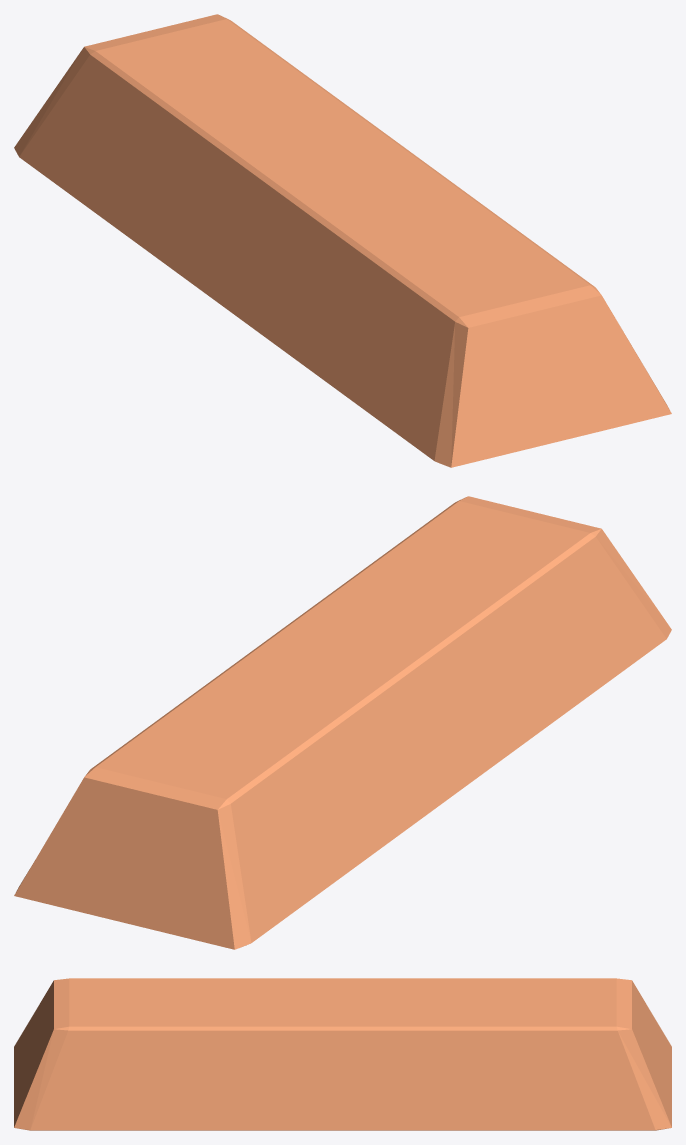
Rendered from CopperIngot.fbx.
The picture shows the model from 3 angles, top to bottom: view 1: azimuth 30°, elevation 25°; view 2: azimuth 150°, elevation 25°; view 3: azimuth 270°, elevation 25°; orthographic projection. The views are drawn at different scales.
Visible parts, largest first — view 1: Ingot; view 2: Ingot; view 3: Ingot.
Part boxes in pixels (x1,y1,x2,y2): Ingot: (14, 14, 671, 467); Ingot: (14, 496, 671, 949); Ingot: (14, 978, 671, 1130).
Size of the model in its own units: 16.82 by 8 by 54.83.
